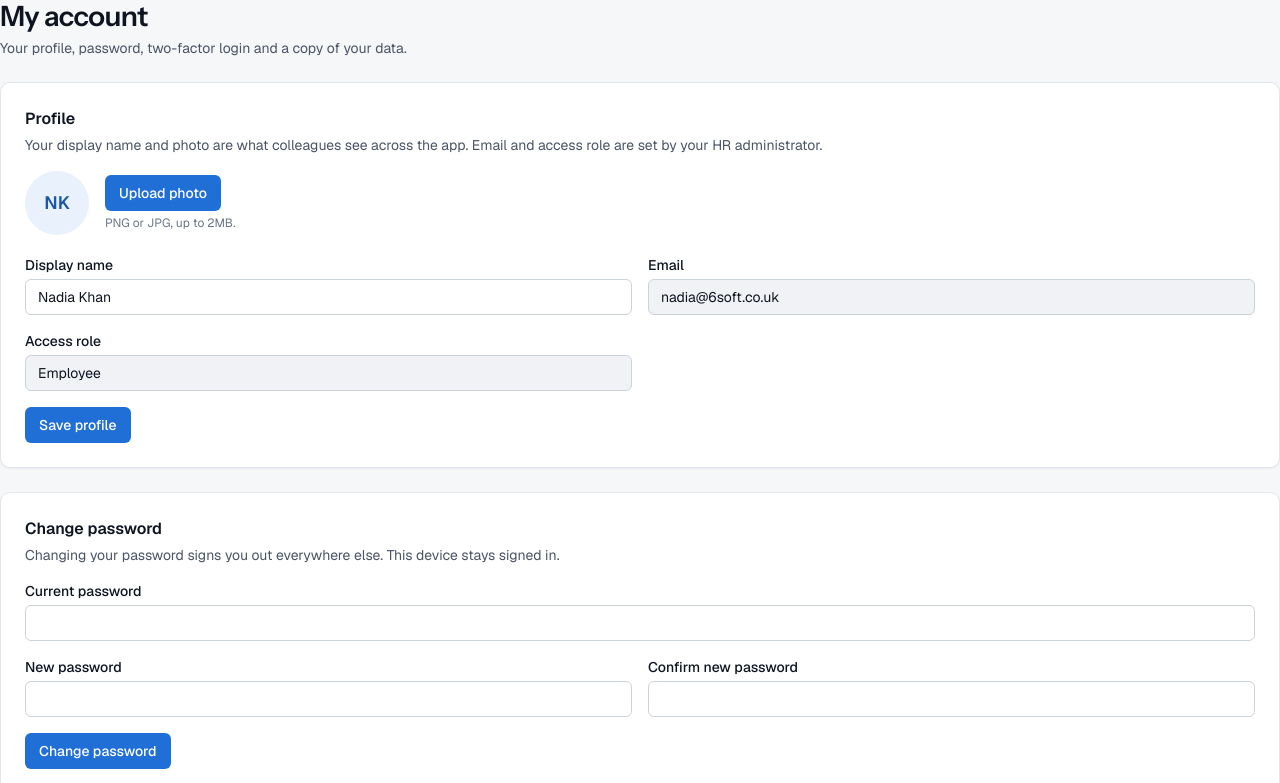
Scenario: Account page › stores the fresh token returned by a successful password change
In the password field labelled "Current password": (640, 623) x1=25 y1=605 x2=1255 y2=641, type "oldpassword"
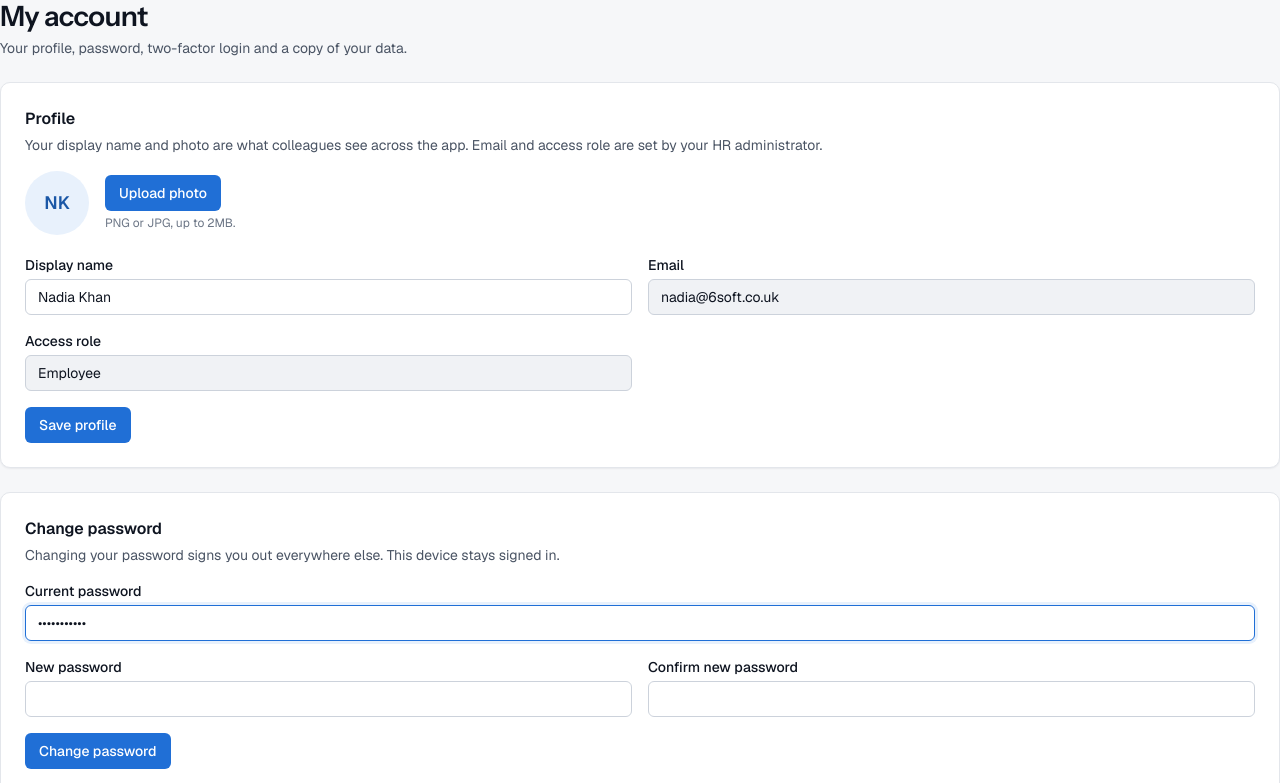
In the password field labelled "New password": (328, 699) x1=25 y1=681 x2=632 y2=717, type "longenough1"
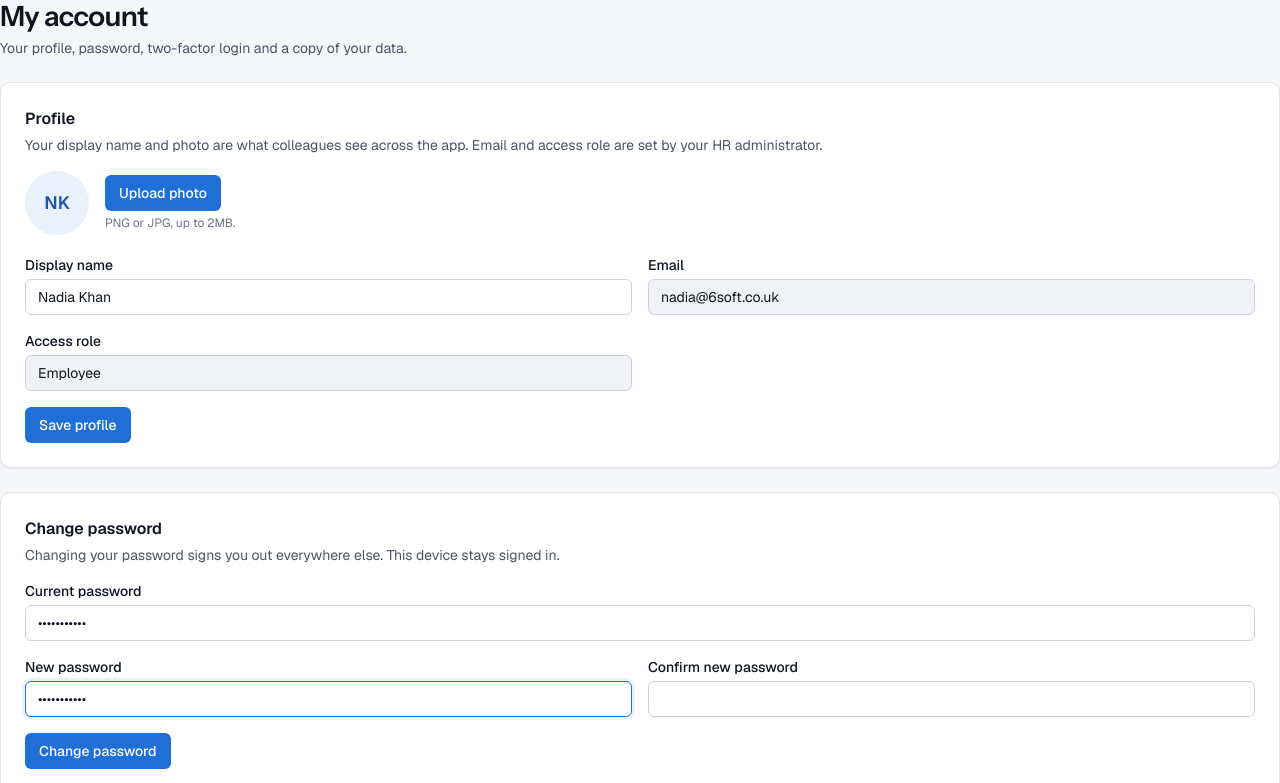
In the password field labelled "Confirm new password": (952, 699) x1=648 y1=681 x2=1255 y2=717, type "longenough1"
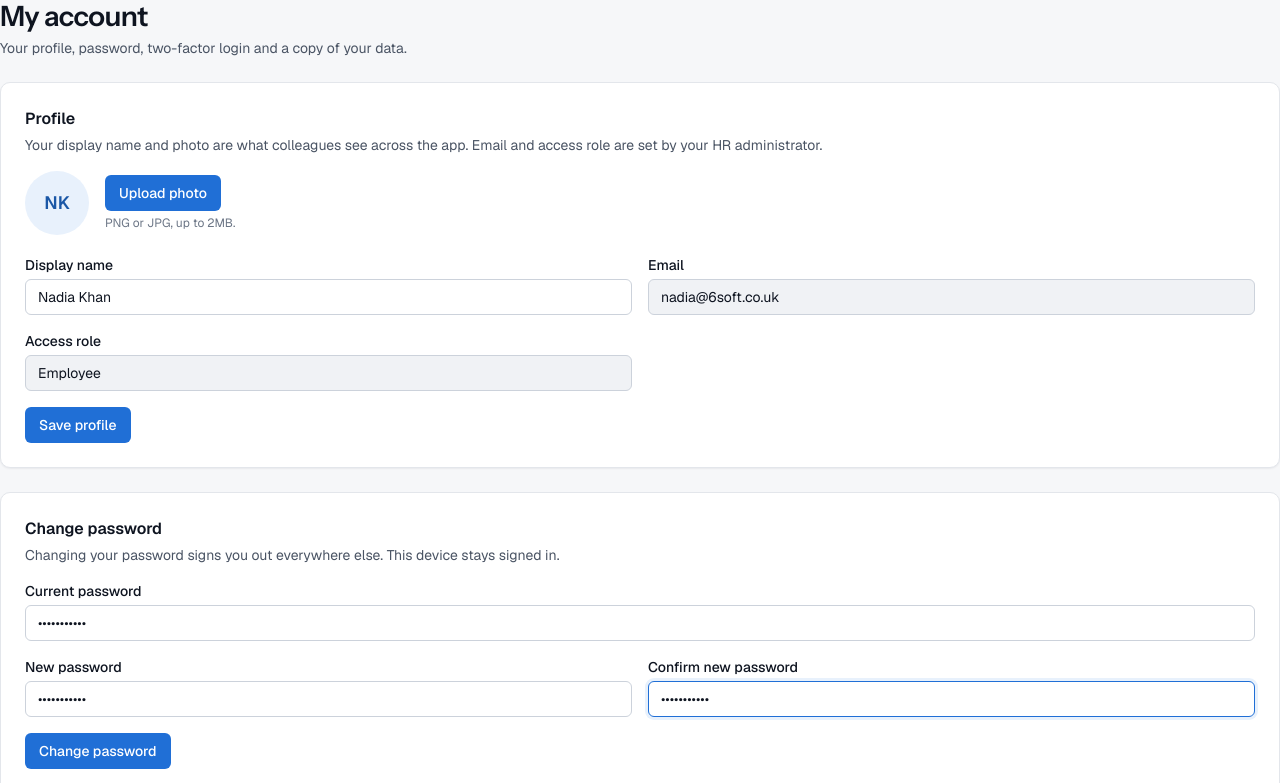
Click the button "Change password": (98, 751) x1=25 y1=733 x2=170 y2=769
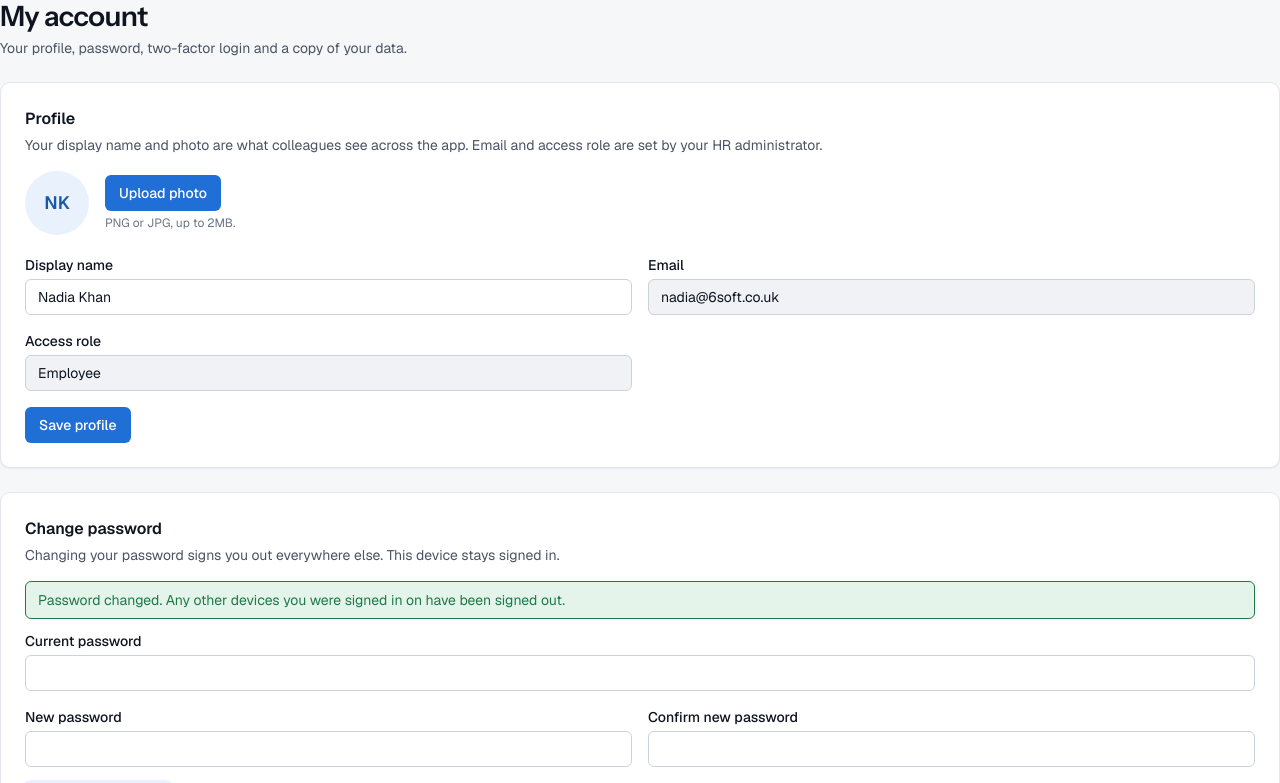
Check: the text "Password changed" is shown, box x1=38 y1=591 x2=565 y2=609
